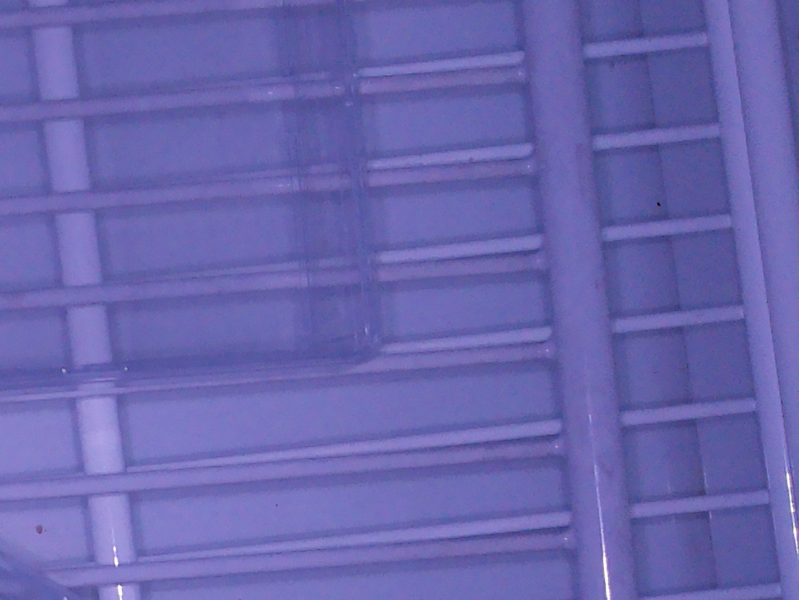plate: (1, 1, 389, 391)
